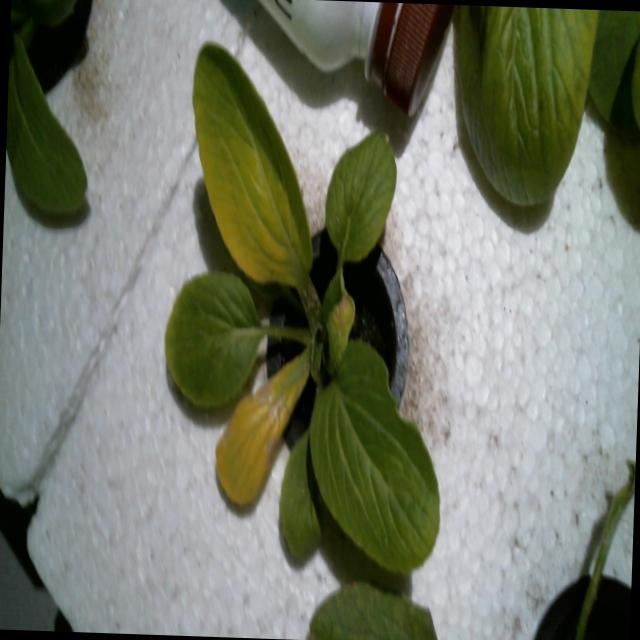pakcoy_tidak_sehat: (153, 31, 459, 602)
